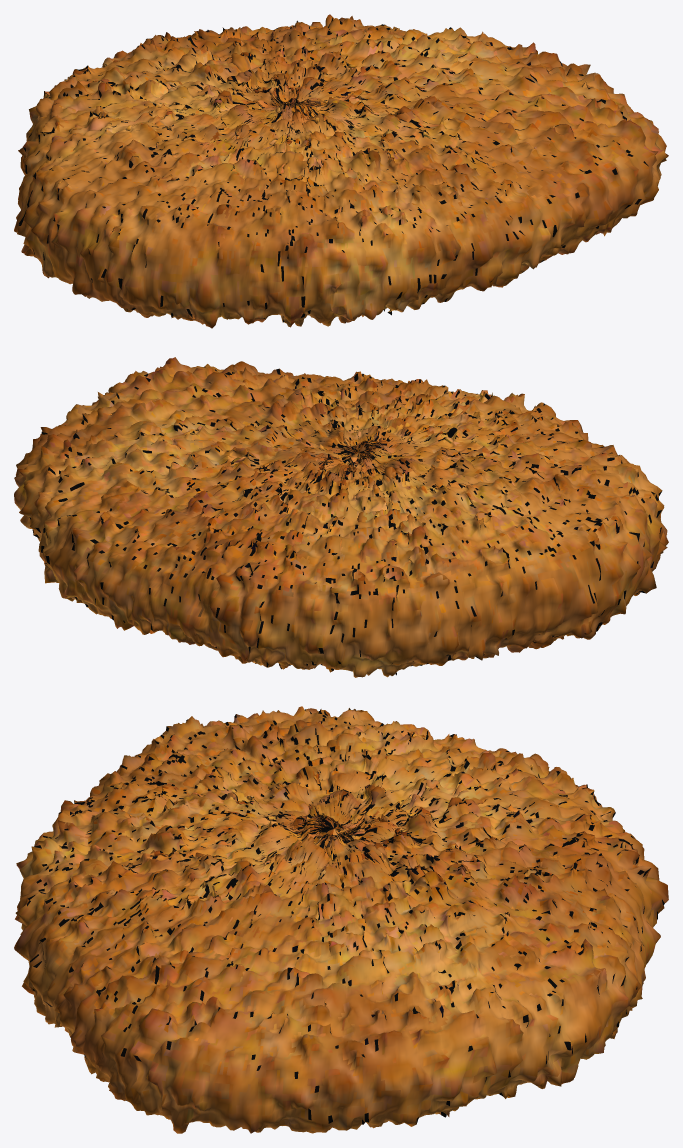
Rendered from chicken_crispy.glb.
The picture shows the model from 3 angles, top to bottom: view 1: azimuth 30°, elevation 25°; view 2: azimuth 150°, elevation 25°; view 3: azimuth 270°, elevation 25°; orthographic projection. The views are drawn at different scales.
Parts seen in each view (by area): view 1: chicken_crispy_web; view 2: chicken_crispy_web; view 3: chicken_crispy_web.
Boxes of the visible parts, <box> form: chicken_crispy_web: <box>14,14,668,328</box>; chicken_crispy_web: <box>14,357,668,677</box>; chicken_crispy_web: <box>14,706,668,1133</box>.
Size of the model in its own units: 0.132 by 0.0305 by 0.1072.
Materials: 1 (1 with a texture image).
